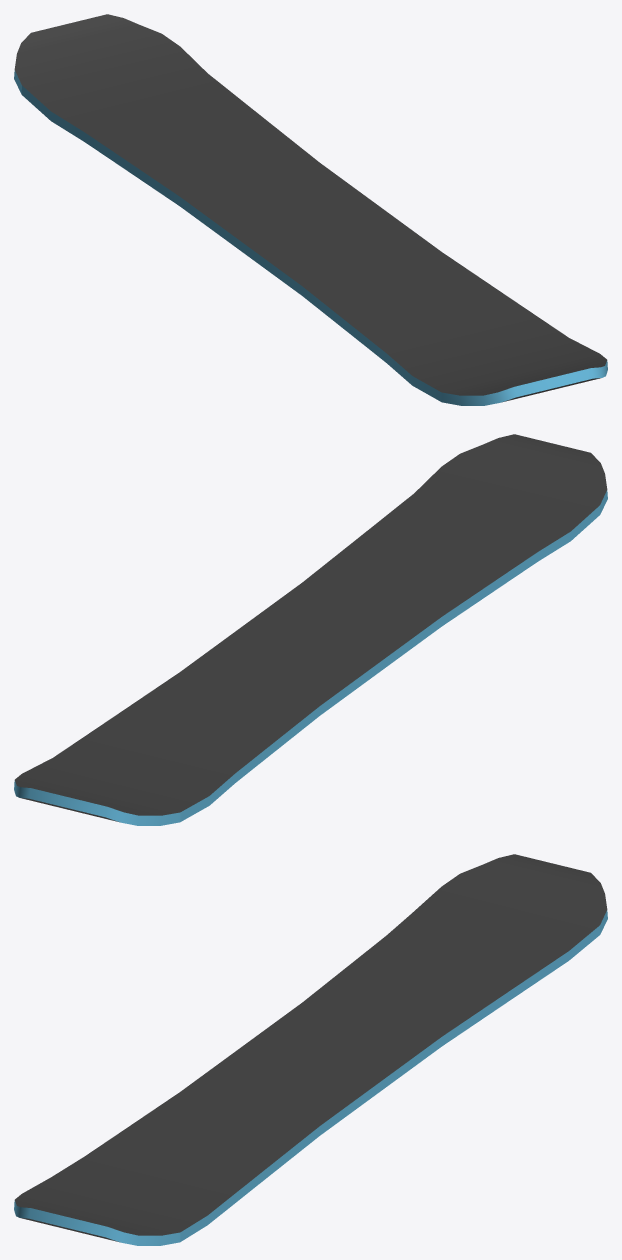
File: Snowboard.glb
3 renders of one model, top to bottom at view 1: azimuth 30°, elevation 25°; view 2: azimuth 150°, elevation 25°; view 3: azimuth 330°, elevation 25°, orthographic.
Visible parts, largest first — view 1: Plane; view 2: Plane; view 3: Plane.
Part boxes in pixels (x1,y1,x2,y2): Plane: (14, 14, 607, 405); Plane: (14, 434, 607, 825); Plane: (14, 854, 607, 1245).
Size of the model in its own units: 0.8492 by 0.1727 by 4.53.
